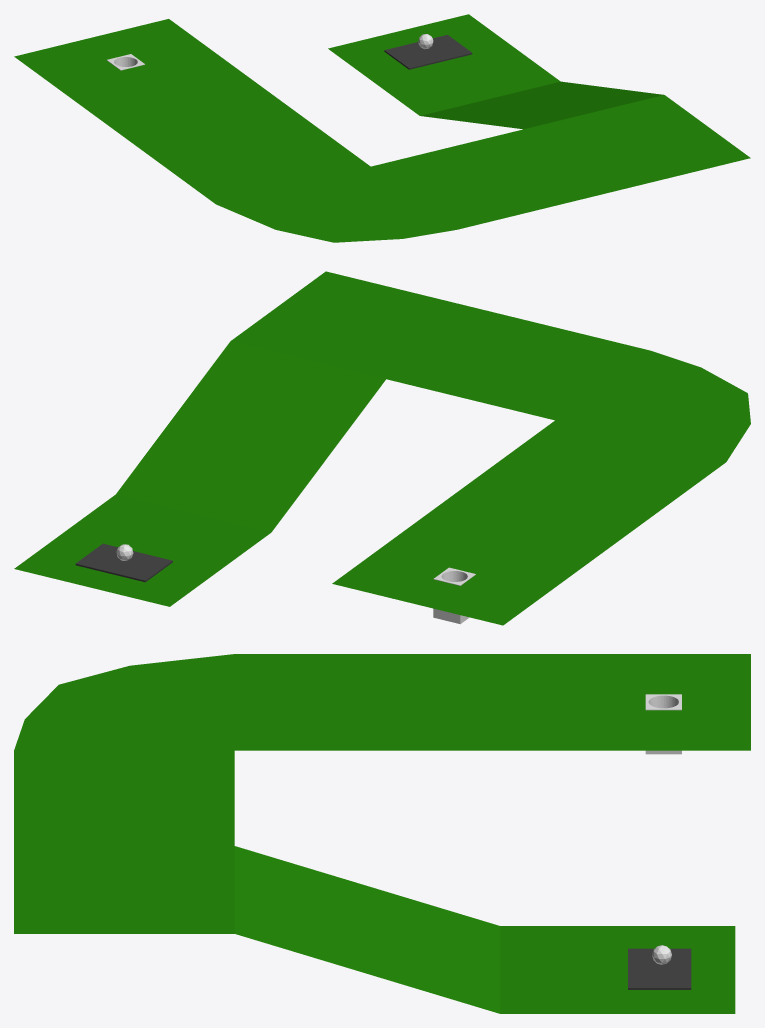
File: boilerplate_level_3.glb
3 views of the same model, one above another, from view 1: azimuth 30°, elevation 25°; view 2: azimuth 150°, elevation 25°; view 3: azimuth 270°, elevation 25° (orthographic). The views are drawn at different scales.
Visible parts, largest first — view 1: Plane, Start; view 2: Plane, Start, Cup; view 3: Plane, Start, Cup.
Part boxes in pixels (box(x1,y1,x2,y2)): Plane: box(14, 14, 750, 242); Start: box(384, 35, 472, 69); Plane: box(14, 271, 750, 625); Start: box(75, 543, 172, 582); Cup: box(433, 567, 475, 624); Plane: box(14, 654, 750, 1013); Start: box(628, 948, 691, 989); Cup: box(645, 694, 681, 754).
Size of the model in its own units: 55.9 by 7.78 by 62.2.
